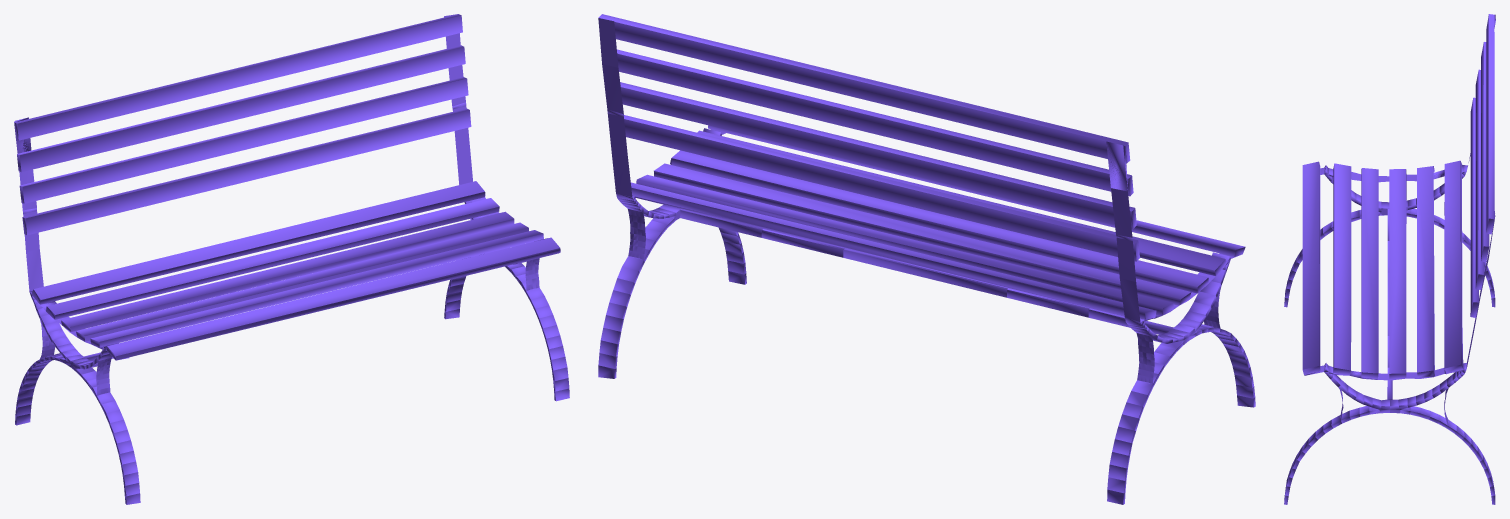
The model's file is Panchina.glb.
3 renders of one model, left to right at view 1: azimuth 30°, elevation 25°; view 2: azimuth 150°, elevation 25°; view 3: azimuth 270°, elevation 25°, orthographic. The views are drawn at different scales.
Visible parts, largest first — view 1: SM_UnrbanMetalBench; view 2: SM_UnrbanMetalBench; view 3: SM_UnrbanMetalBench.
Part boxes in pixels (bbox=[...]): SM_UnrbanMetalBench: bbox=[14, 14, 569, 504]; SM_UnrbanMetalBench: bbox=[598, 14, 1255, 504]; SM_UnrbanMetalBench: bbox=[1284, 14, 1495, 504].
Size of the model in its own units: 2.31 by 1.5 by 1.
